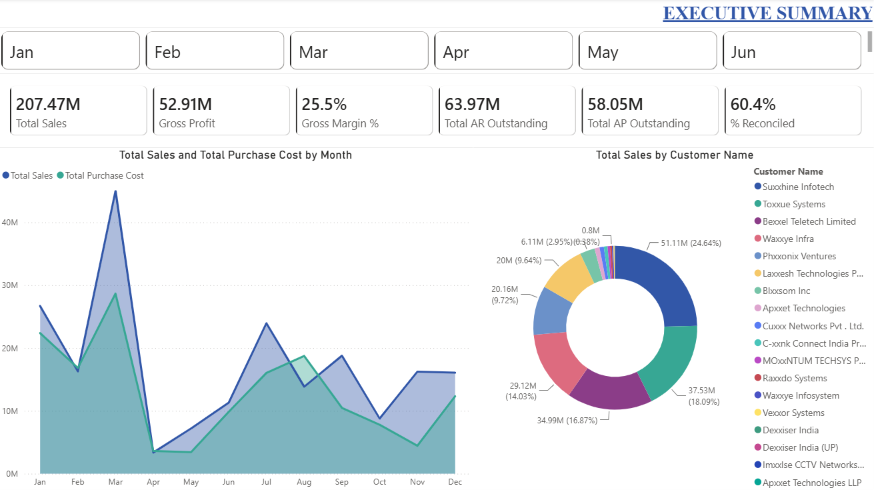

The dashboard page shown, as its layout file describes it:
{"tool":"powerbi","page":{"name":"Executive Summary","canvas":[1280,720],"ordinal":0},"visuals":[{"type":"cardVisual","fields":{"Data":["_Measures.Total Sales","_Measures.Gross Profit","_Measures.Gross Margin %","_Measures.Total AR Outstanding","_Measures.Total AP Outstanding","_Measures.% Reconciled"]},"box":[0,109,1279.5,107.5],"z":0},{"type":"lineChart","fields":{"Y":["_Measures.Total Sales","_Measures.Total Purchase Cost"],"Category":["Date_Table.Month"]},"box":[0,216.5,692,504.2],"z":1000},{"type":"donutChart","fields":{"Category":["public fact_sales.customer_name"],"Y":["_Measures.Total Sales"]},"box":[692,216.5,587.5,504.2],"z":2000},{"type":"advancedSlicerVisual","fields":{"Values":["Date_Table.Month"]},"box":[0,42.4,1279.5,66.6],"z":3000},{"type":"textbox","box":[0,0,1279.5,42.2],"z":4000}]}

Visuals, with their boxes in screenshot pixels (x1, y1, x2, y2), scaled from the page's 1280x720 canvas onto the 874x490 screenshot:
cardVisual - _Measures.Total Sales x _Measures.Gross Profit: crop(0, 74, 873, 147)
lineChart - _Measures.Total Sales x _Measures.Total Purchase Cost: crop(0, 147, 473, 489)
donutChart - public fact_sales.customer_name x _Measures.Total Sales: crop(473, 147, 873, 489)
advancedSlicerVisual - Date_Table.Month: crop(0, 29, 873, 74)
textbox: crop(0, 0, 873, 29)
